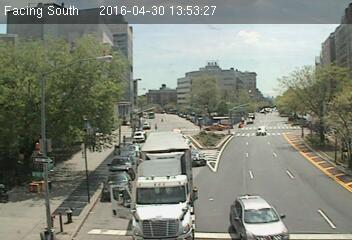neg: (312, 108, 328, 129), (120, 131, 133, 147), (265, 99, 276, 115), (324, 151, 334, 165), (151, 119, 160, 132), (231, 115, 239, 125), (159, 113, 166, 122)
